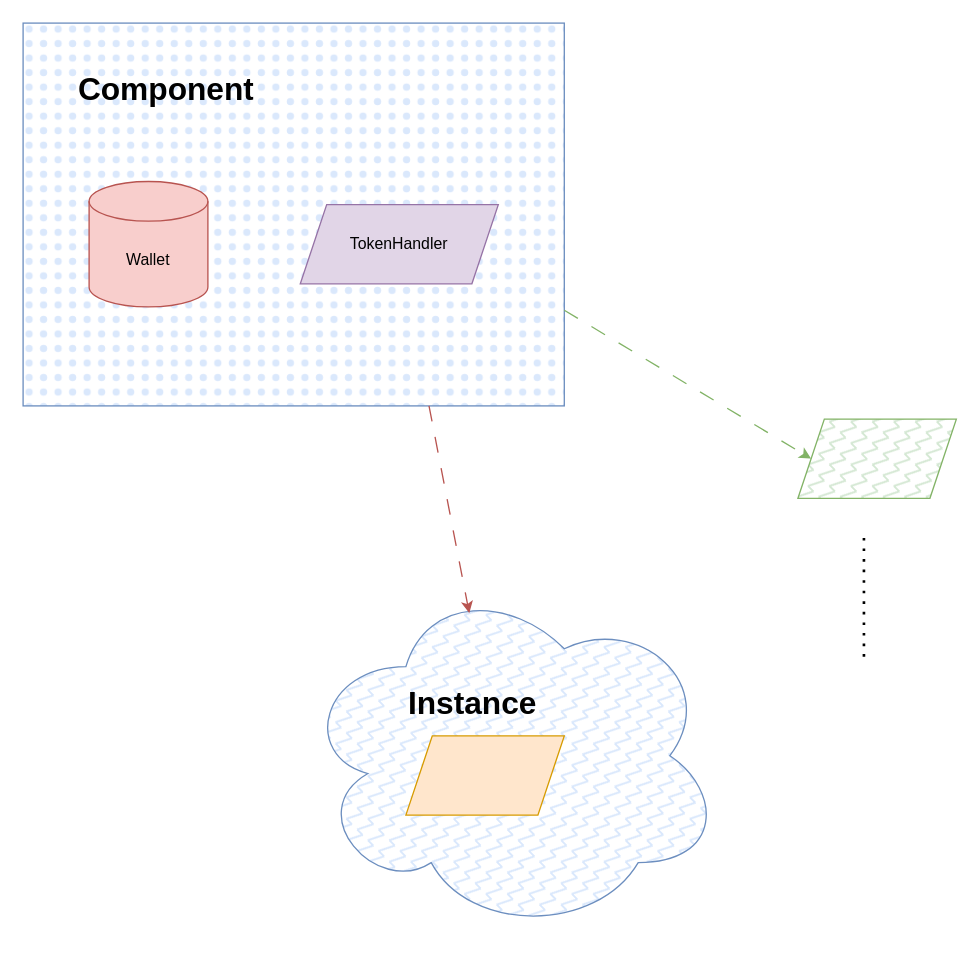
Image size: 979x957. Some labels were removed from this diagram. Each missing label, with the centre of its shape:
"InstanceReader" goes at (x=484, y=775).
"Services" goes at (x=876, y=458).
